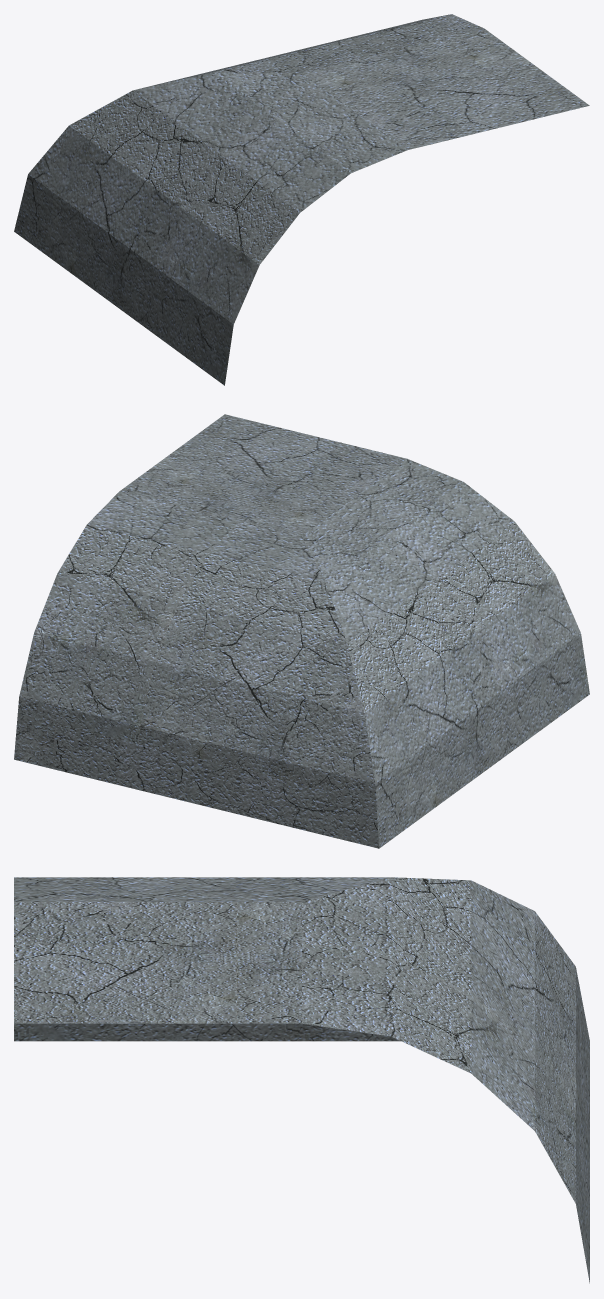
File: ceiling_03.fbx
3 renders of one model, top to bottom at view 1: azimuth 30°, elevation 25°; view 2: azimuth 150°, elevation 25°; view 3: azimuth 270°, elevation 25°, orthographic. The views are drawn at different scales.
Parts seen in each view (by area): view 1: ceiling_03; view 2: ceiling_03; view 3: ceiling_03.
Boxes of the visible parts, bbox=[...] form: ceiling_03: bbox=[14, 14, 589, 385]; ceiling_03: bbox=[14, 414, 589, 848]; ceiling_03: bbox=[14, 877, 589, 1283].
Size of the model in its own units: 100 by 50 by 100.
